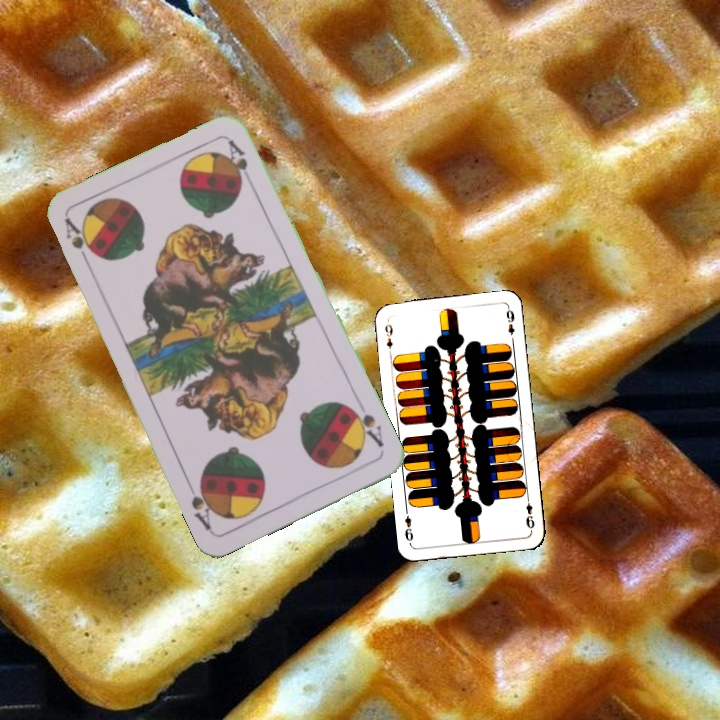E9: (522, 492, 537, 531), (381, 317, 395, 351)
SA: (61, 214, 98, 270), (345, 402, 387, 450)
